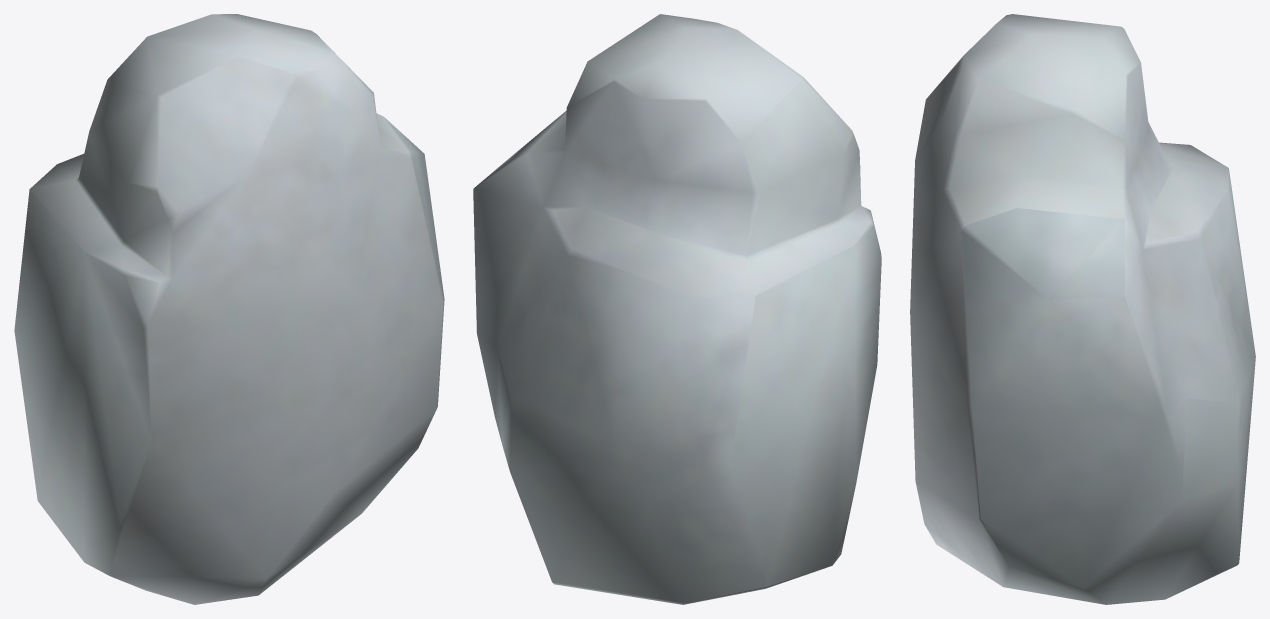
File: P_RockSpire_Rock11.obj
3 views of the same model, side by side, from view 1: azimuth 30°, elevation 25°; view 2: azimuth 150°, elevation 25°; view 3: azimuth 270°, elevation 25° (orthographic). The views are drawn at different scales.
Size of the model in its own units: 7.33 by 10.76 by 6.18.
